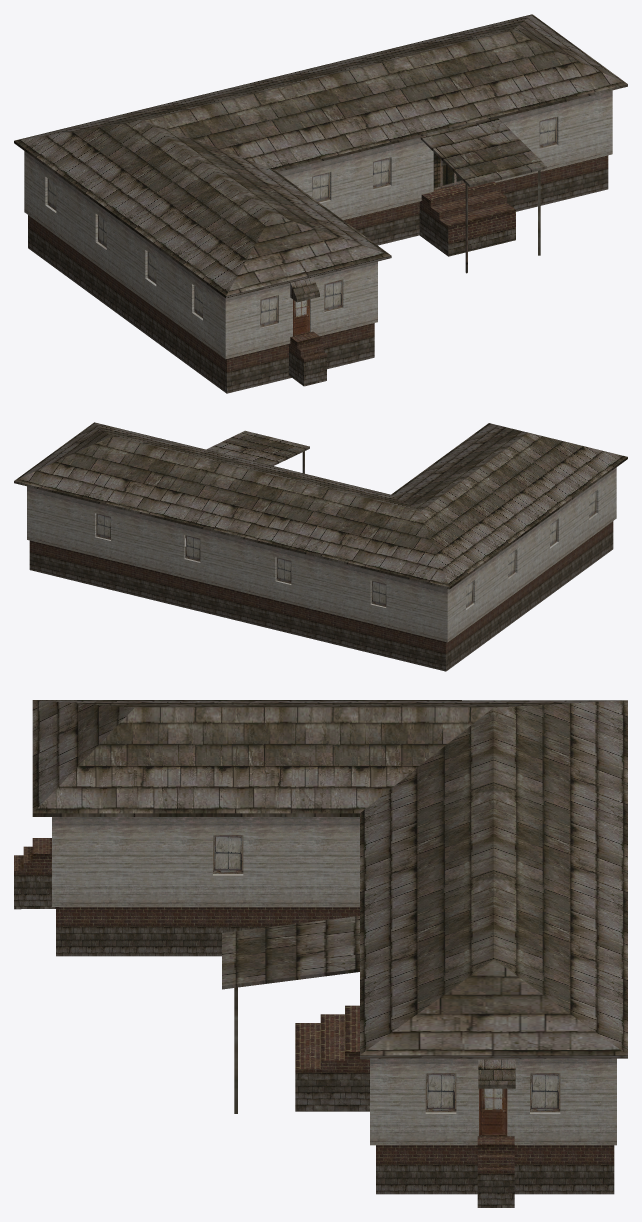
File: Whqcntr1.glb
The picture shows the model from 3 angles, top to bottom: view 1: azimuth 30°, elevation 25°; view 2: azimuth 150°, elevation 25°; view 3: azimuth 270°, elevation 25°; orthographic projection. The views are drawn at different scales.
Visible parts, largest first — view 1: _Whqcntr1; view 2: _Whqcntr1; view 3: _Whqcntr1.
Part boxes in pixels (box(x1,y1,x2,y2)): _Whqcntr1: box(14, 14, 627, 393); _Whqcntr1: box(14, 422, 627, 671); _Whqcntr1: box(14, 700, 627, 1207).
Size of the model in its own units: 35 by 8.91 by 25.01.
1 material, 1 textured.
